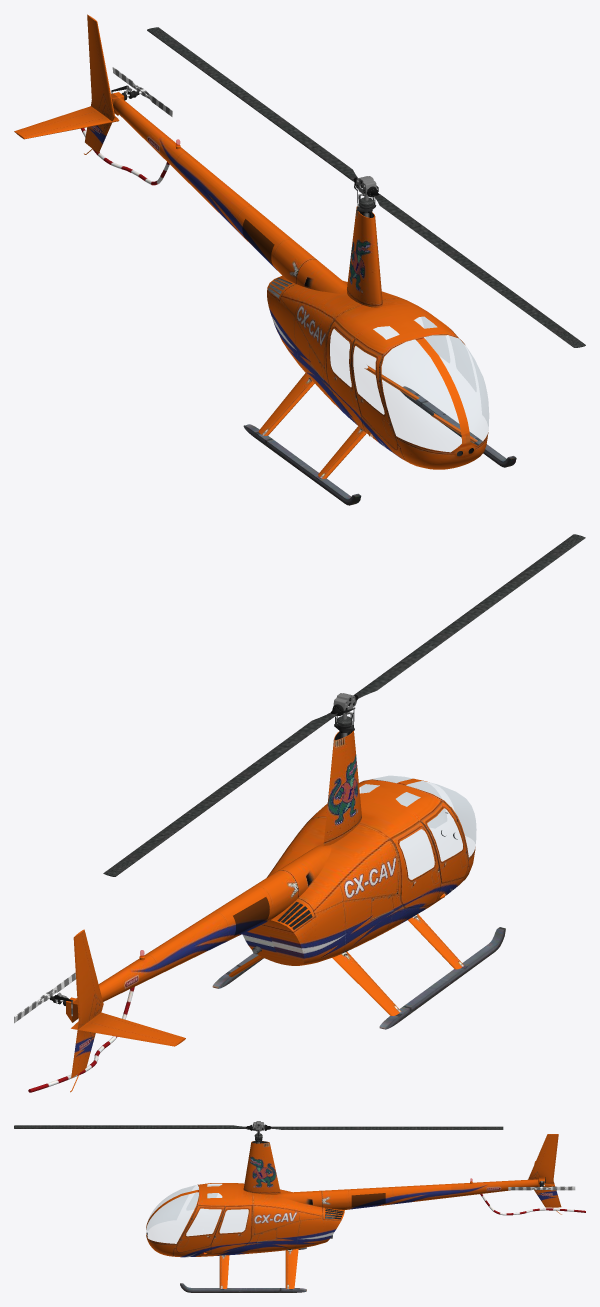
File: CXCAVGator.gltf
The picture shows the model from 3 angles, top to bottom: view 1: azimuth 30°, elevation 25°; view 2: azimuth 150°, elevation 25°; view 3: azimuth 270°, elevation 25°; orthographic projection. The views are drawn at different scales.
Parts seen in each view (by area): view 1: Exterior, Spin_0; view 2: Exterior, Spin_0; view 3: Exterior, Spin_0, Spin_1.
Boxes of the visible parts, x1,y1,x2,y2 form: Exterior: (14,14,516,505); Spin_0: (147,27,585,347); Exterior: (28,731,505,1092); Spin_0: (103,534,585,876); Exterior: (146,1134,585,1292); Spin_0: (14,1121,503,1143); Spin_1: (508,1184,575,1190).
Bounding box in the file's own units: 2.39 × 3.36 × 11.78.
10 materials, 10 textured.
